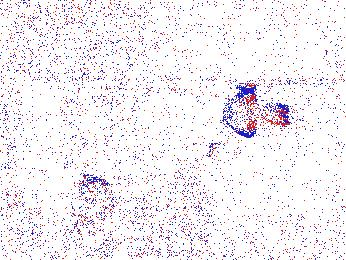flame jellyfish: (223, 90, 294, 138), (70, 173, 118, 222)
